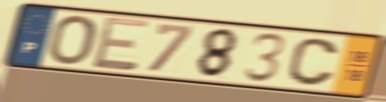3: (242, 31, 288, 84)
7: (148, 21, 197, 76)
8: (193, 27, 242, 80)
C: (285, 36, 341, 88)
E: (90, 14, 153, 73)
O: (47, 14, 100, 67)
